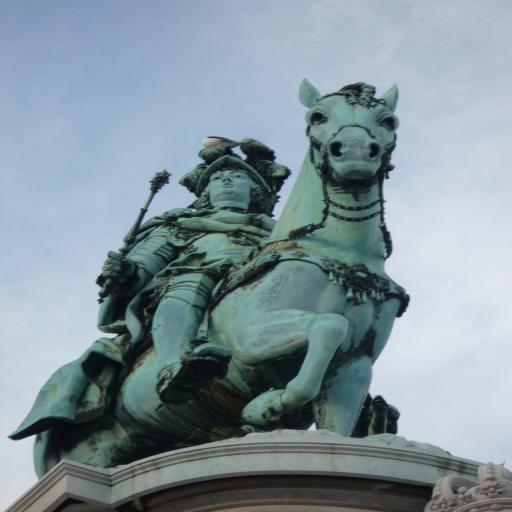Horse: (35, 78, 411, 477)
